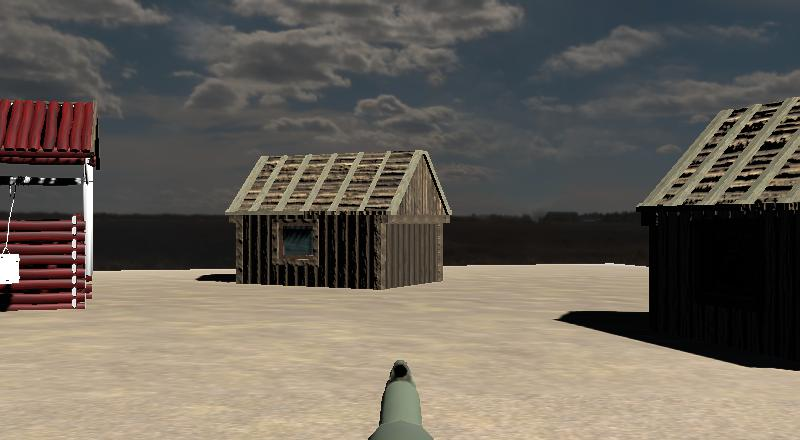House: (638, 85, 800, 366), (226, 149, 451, 289)
